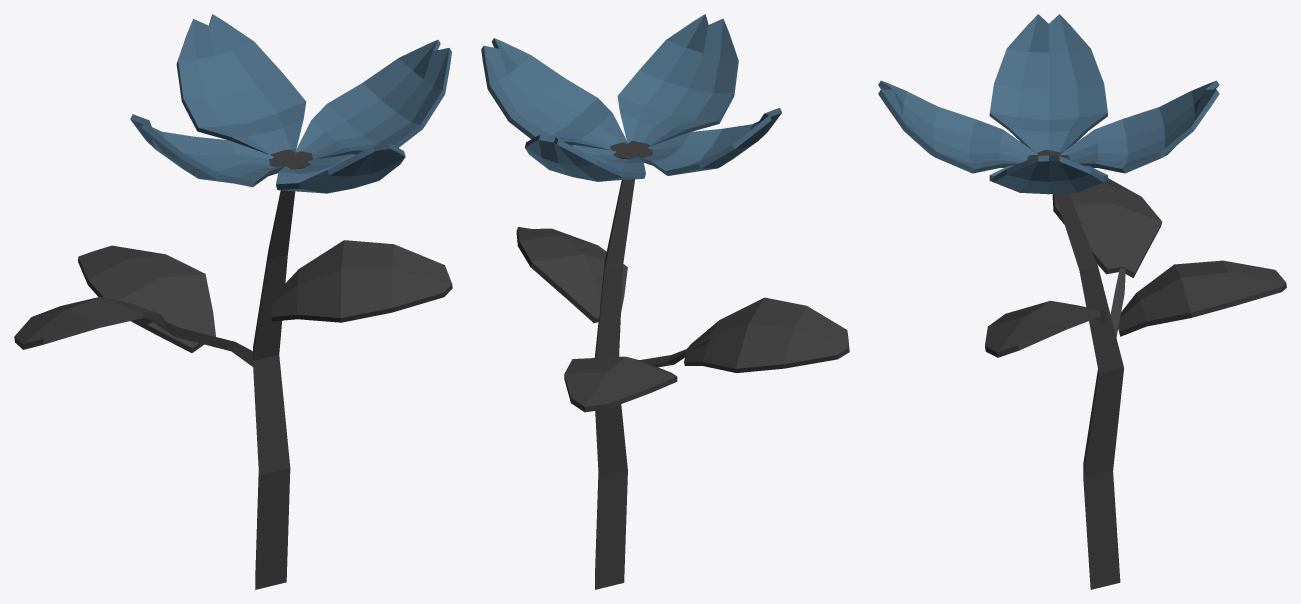
Rendered from Flower_1.fbx.
The picture shows the model from 3 angles, left to right: view 1: azimuth 30°, elevation 25°; view 2: azimuth 150°, elevation 25°; view 3: azimuth 270°, elevation 25°; orthographic projection. The views are drawn at different scales.
Parts seen in each view (by area): view 1: Flower 8; view 2: Flower 8; view 3: Flower 8.
Part boxes in pixels (x1,y1,x2,y2): Flower 8: (14,14,452,589); Flower 8: (481,14,849,589); Flower 8: (878,14,1286,589).
Size of the model in its own units: 157 by 193 by 144.
